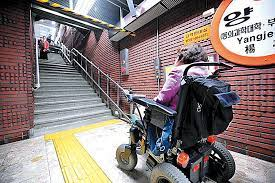guide_blocks: (55, 137, 107, 183)
